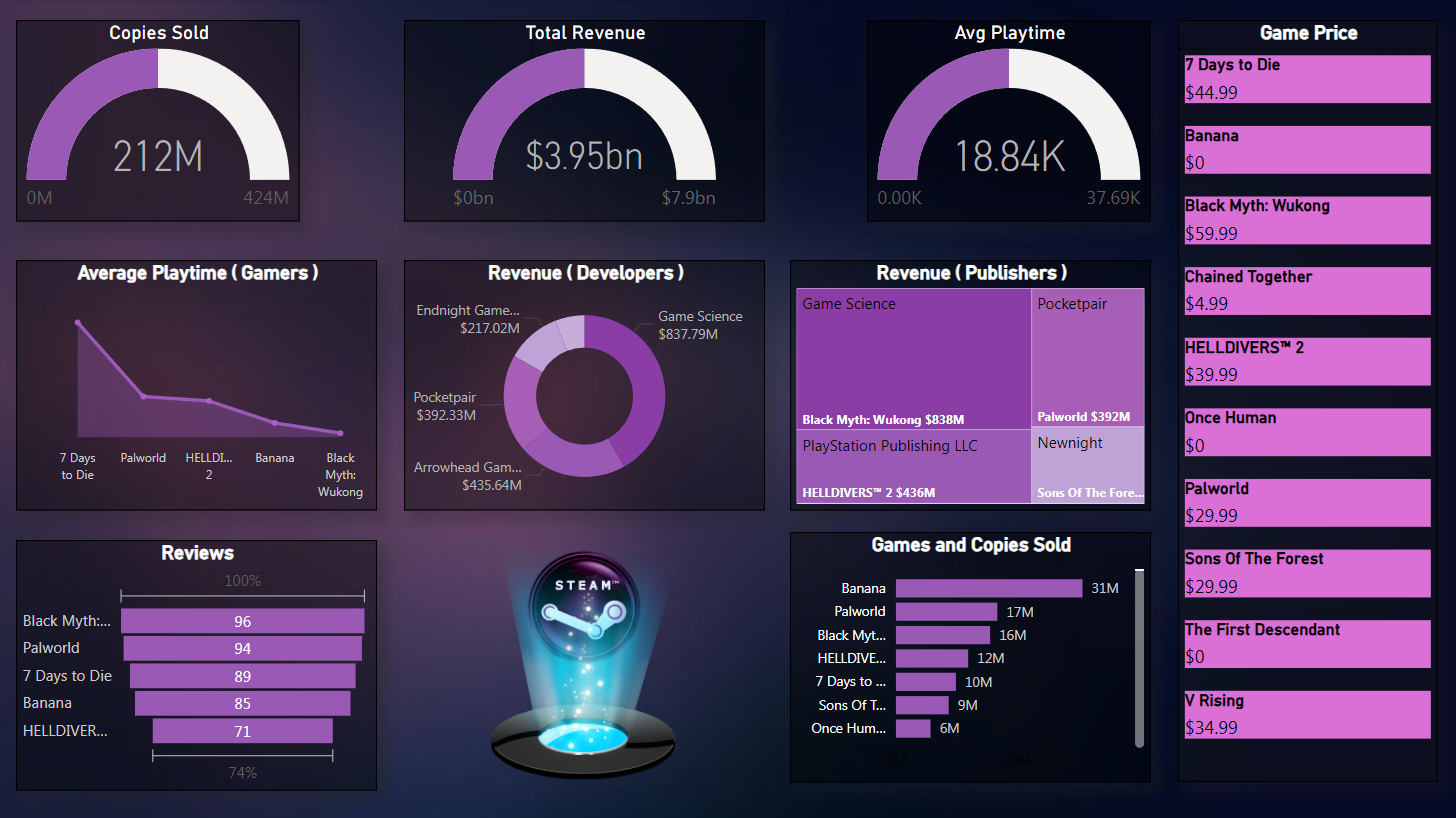

This screenshot's page, from the dashboard's own definition file:
{"tool":"powerbi","page":{"name":"Page 1","canvas":[1280,720],"ordinal":0},"visuals":[{"type":"barChart","title":"Games and Copies Sold","fields":{"Category":["Steam_2024_bestRevenue_1500.name"],"Y":["Sum(Steam_2024_bestRevenue_1500.copiesSold)"]},"box":[693.7,468,317,219.5],"z":0},{"type":"funnel","title":"Reviews","fields":{"Category":["Steam_2024_bestRevenue_1500.name"],"Y":["Sum(Steam_2024_bestRevenue_1500.reviewScore)"]},"box":[14,475,317,219.5],"z":2000},{"type":"areaChart","title":"Average Playtime","fields":{"Category":["Steam_2024_bestRevenue_1500.name"],"Y":["Sum(Steam_2024_bestRevenue_1500.avgPlaytime)"]},"box":[14,229.2,317,219.5],"z":3000},{"type":"multiRowCard","title":"Game Price ","fields":{"Values":["Steam_2024_bestRevenue_1500.name","Sum(Steam_2024_bestRevenue_1500.price)"]},"box":[1034.3,18.4,228.3,669.1],"z":4000},{"type":"treemap","title":"Revenue by Publishers","fields":{"Group":["Steam_2024_bestRevenue_1500.publishers"],"Details":["Steam_2024_bestRevenue_1500.name"],"Values":["Sum(Steam_2024_bestRevenue_1500.revenue)"]},"box":[693.7,229.2,317,219.5],"z":5000},{"type":"gauge","fields":{"Y":["Sum(Steam_2024_bestRevenue_1500.copiesSold)"]},"box":[14,18.4,249.4,177.4],"z":6000},{"type":"gauge","fields":{"Y":["Sum(Steam_2024_bestRevenue_1500.revenue)"]},"box":[354.7,18.4,317,177.4],"z":7000},{"type":"gauge","fields":{"Y":["Sum(Steam_2024_bestRevenue_1500.avgPlaytime)"]},"box":[761.3,18.4,249.4,177.4],"z":8000},{"type":"donutChart","title":"Revenue by Publishers","fields":{"Category":["Steam_2024_bestRevenue_1500.developers"],"Y":["Sum(Steam_2024_bestRevenue_1500.revenue)"]},"box":[355,229,317,220],"z":8001},{"type":"image","box":[355,475,317,220],"z":8002}]}

Visuals, with their boxes in screenshot pixels (x1, y1, x2, y2), scaled from the page's 1280x720 canvas onto the 1456x818 screenshot:
"Games and Copies Sold" barChart: x1=789 y1=532 x2=1150 y2=781
"Reviews" funnel: x1=16 y1=540 x2=377 y2=789
"Average Playtime" areaChart: x1=16 y1=260 x2=377 y2=510
"Game Price " multiRowCard: x1=1177 y1=21 x2=1436 y2=781
"Revenue by Publishers" treemap: x1=789 y1=260 x2=1150 y2=510
gauge - Sum(Steam_2024_bestRevenue_1500.copiesSold): x1=16 y1=21 x2=300 y2=222
gauge - Sum(Steam_2024_bestRevenue_1500.revenue): x1=403 y1=21 x2=764 y2=222
gauge - Sum(Steam_2024_bestRevenue_1500.avgPlaytime): x1=866 y1=21 x2=1150 y2=222
"Revenue by Publishers" donutChart: x1=404 y1=260 x2=764 y2=510
image: x1=404 y1=540 x2=764 y2=790
